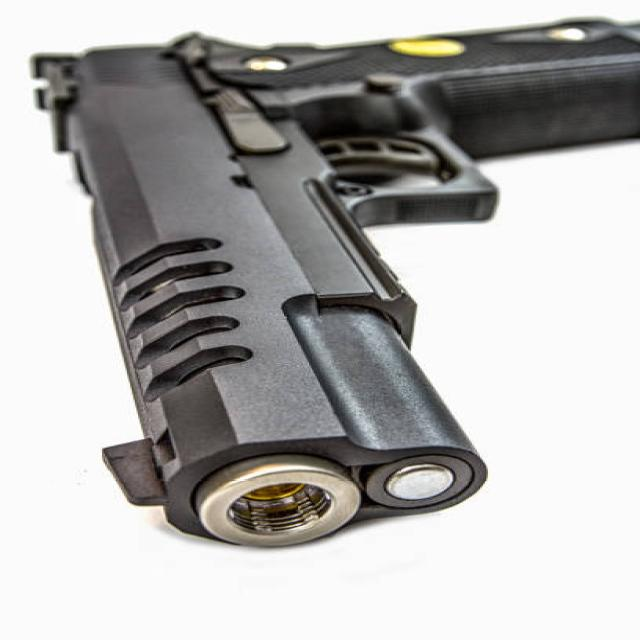pistol: (22, 11, 640, 555)
